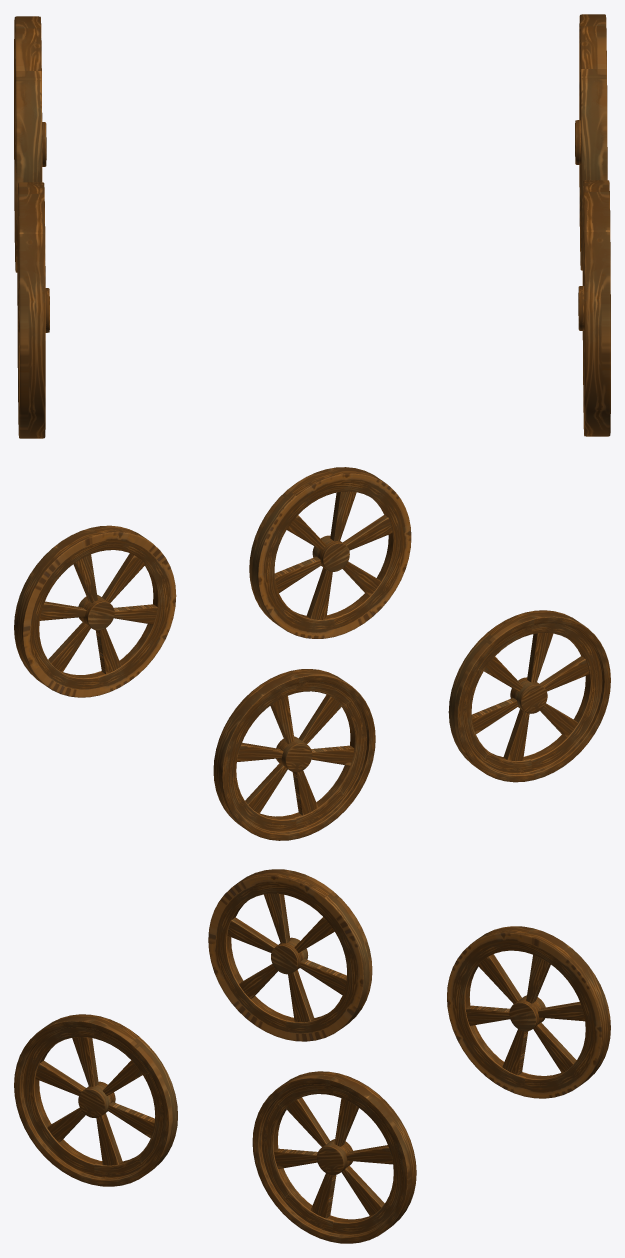
3 views of the same model, one above another, from view 1: azimuth 30°, elevation 25°; view 2: azimuth 150°, elevation 25°; view 3: azimuth 270°, elevation 25° (orthographic). The views are drawn at different scales.
Parts seen in each view (by area): view 1: Cylinder.048; view 2: Cylinder.048; view 3: Cylinder.048.
Boxes of the visible parts, box(x1,y1,x2,y2) form: Cylinder.048: box(14, 14, 610, 438); Cylinder.048: box(14, 467, 610, 840); Cylinder.048: box(14, 869, 610, 1243).
Bounding box in the file's own units: 532 × 164 × 546.
1 material, 1 textured.
